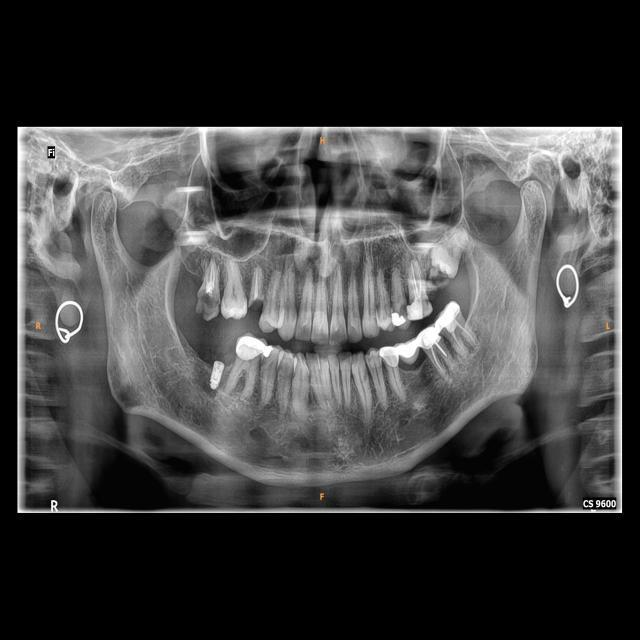dentin-curugu: (195, 288, 220, 318)
dolgu: (406, 299, 430, 320), (258, 343, 274, 363), (390, 311, 408, 328)
implant: (207, 354, 228, 394)
kanal-tedavisi: (403, 262, 426, 298), (448, 323, 477, 350), (429, 344, 451, 369), (251, 267, 262, 300)
kaplama: (434, 294, 465, 330), (234, 332, 264, 366), (378, 342, 401, 373), (416, 328, 443, 347)
kirik: (250, 288, 267, 313)
